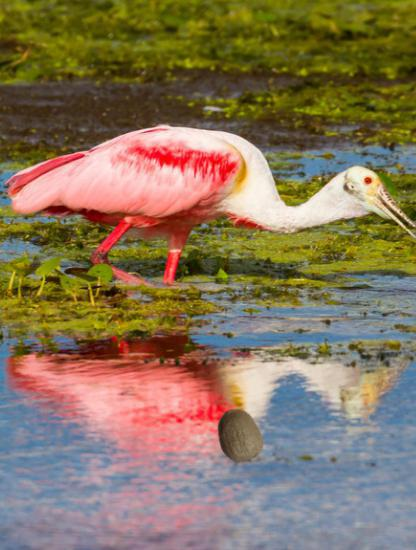Kiwi: (211, 408, 268, 465)
